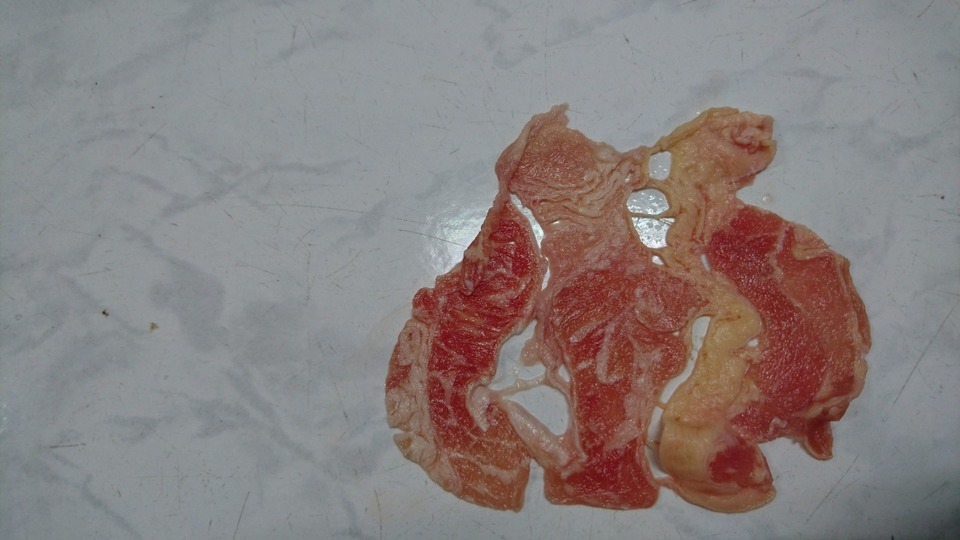restructured meat: (393, 85, 881, 524)
